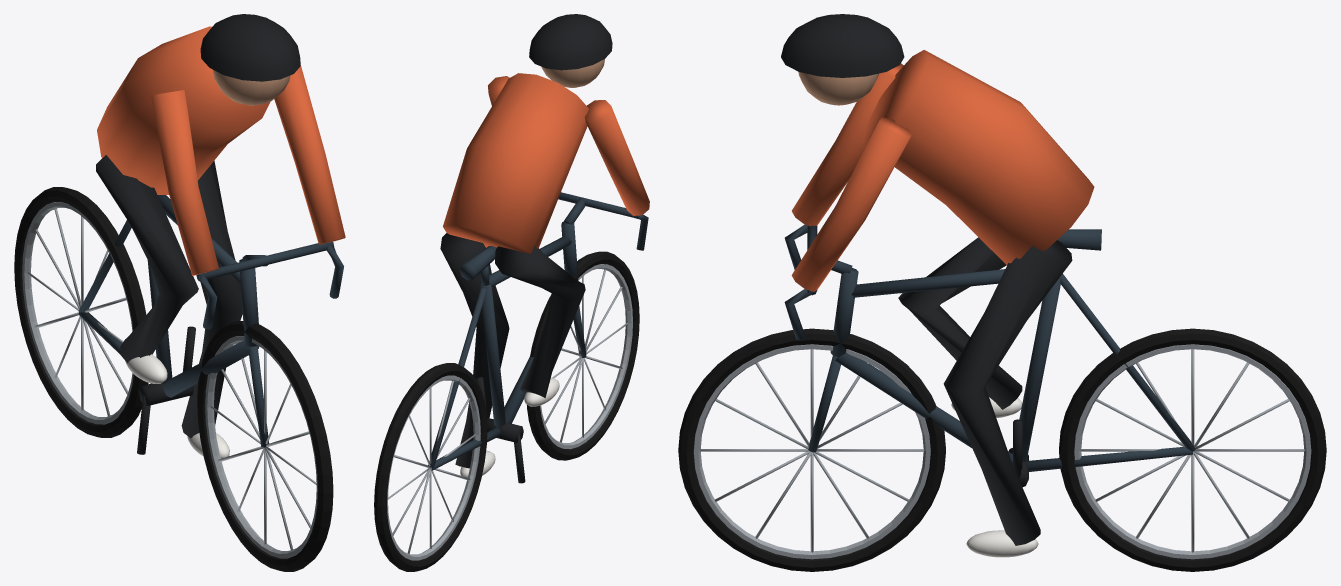
File: rider.glb
3 views of the same model, side by side, from view 1: azimuth 30°, elevation 25°; view 2: azimuth 150°, elevation 25°; view 3: azimuth 270°, elevation 25° (orthographic). The views are drawn at different scales.
Visible parts, largest first — view 1: Rider_Torso, Rider_Arms, Bike_Frame, Rider_Leg_L, Wheel_F, Wheel_R, Rider_Helmet, Rider_Leg_R, Torus.001, Torus.003, Wheel_F_spokes, Wheel_R_spokes (+4 smaller); view 2: Rider_Torso, Bike_Frame, Wheel_R, Rider_Leg_L, Rider_Leg_R, Rider_Helmet, Wheel_F, Rider_Arms, Torus.001, Wheel_R_spokes, Torus.003, Wheel_F_spokes (+3 smaller); view 3: Rider_Torso, Bike_Frame, Rider_Leg_R, Wheel_R, Wheel_F, Rider_Arms, Rider_Helmet, Torus.001, Rider_Leg_L, Torus.003, Wheel_F_spokes, Wheel_R_spokes (+2 smaller).
Boxes of the visible parts, x1=… form: Rider_Torso: x1=97, y1=26, x2=270, y2=194; Rider_Arms: x1=151, y1=65, x2=345, y2=275; Bike_Frame: x1=78, y1=195, x2=343, y2=447; Rider_Leg_L: x1=96, y1=155, x2=198, y2=363; Wheel_F: x1=197, y1=321, x2=333, y2=571; Wheel_R: x1=14, y1=187, x2=148, y2=437; Rider_Helmet: x1=200, y1=14, x2=300, y2=81; Rider_Leg_R: x1=181, y1=160, x2=242, y2=438; Torus.001: x1=22, y1=202, x2=133, y2=424; Torus.003: x1=205, y1=336, x2=317, y2=558; Wheel_F_spokes: x1=210, y1=342, x2=316, y2=550; Wheel_R_spokes: x1=27, y1=208, x2=128, y2=416; Rider_Torso: x1=443, y1=73, x2=588, y2=253; Bike_Frame: x1=428, y1=192, x2=648, y2=470; Wheel_R: x1=374, y1=363, x2=487, y2=571; Rider_Leg_L: x1=495, y1=246, x2=585, y2=398; Rider_Leg_R: x1=440, y1=233, x2=509, y2=468; Rider_Helmet: x1=529, y1=14, x2=612, y2=70; Wheel_F: x1=527, y1=251, x2=639, y2=460; Rider_Arms: x1=488, y1=76, x2=649, y2=215; Torus.001: x1=387, y1=375, x2=480, y2=560; Wheel_R_spokes: x1=388, y1=381, x2=476, y2=554; Torus.003: x1=540, y1=264, x2=632, y2=449; Wheel_F_spokes: x1=544, y1=269, x2=628, y2=442; Rider_Torso: x1=863, y1=50, x2=1094, y2=264; Bike_Frame: x1=784, y1=224, x2=1195, y2=471; Rider_Leg_R: x1=943, y1=240, x2=1072, y2=545; Wheel_R: x1=1059, y1=328, x2=1326, y2=571; Wheel_F: x1=678, y1=328, x2=945, y2=571; Rider_Arms: x1=791, y1=63, x2=912, y2=291; Rider_Helmet: x1=781, y1=14, x2=904, y2=77; Torus.001: x1=1074, y1=344, x2=1311, y2=559; Rider_Leg_L: x1=898, y1=237, x2=1022, y2=409; Torus.003: x1=693, y1=344, x2=930, y2=559; Wheel_F_spokes: x1=700, y1=349, x2=924, y2=552; Wheel_R_spokes: x1=1080, y1=349, x2=1304, y2=552.
Size of the model in its own units: 0.4897 by 1.6 by 1.7.
